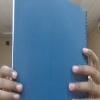notebook: (11, 0, 89, 99)
